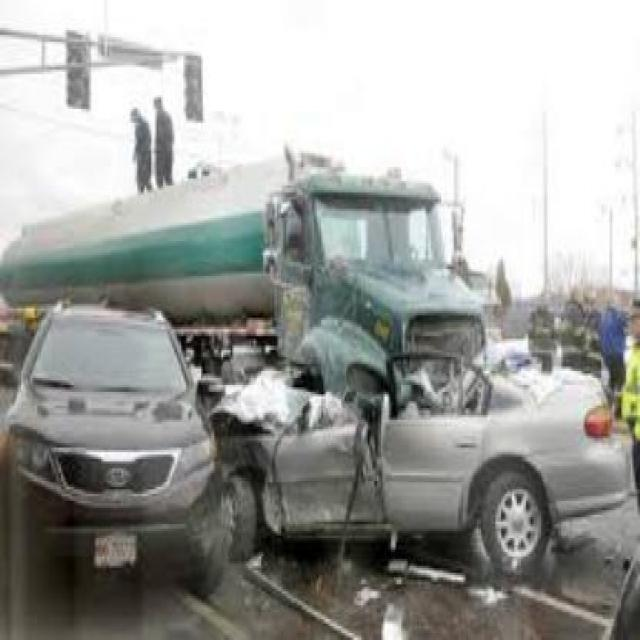accident: (0, 160, 632, 589)
